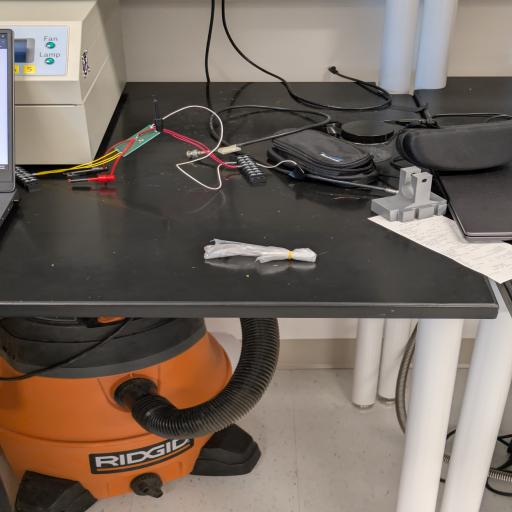rubberband: (202, 237, 320, 268)
